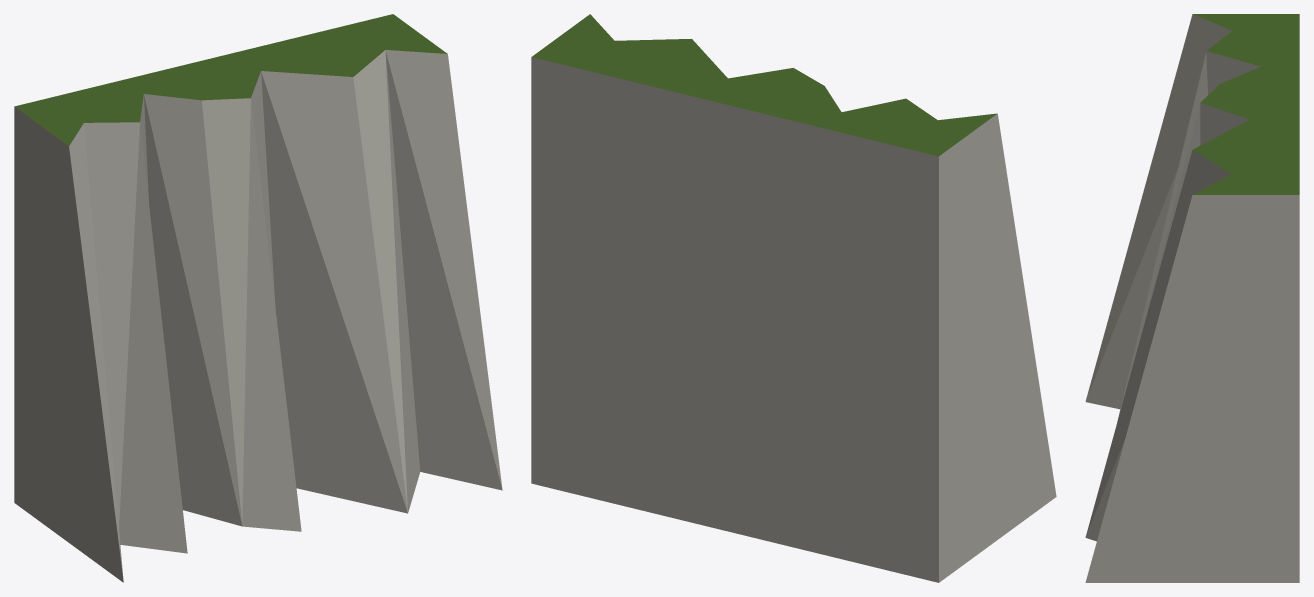
File: Terrain_Tile_Grass_Rock_Cliff_Face_Angled_01.fbx
3 renders of one model, left to right at view 1: azimuth 30°, elevation 25°; view 2: azimuth 150°, elevation 25°; view 3: azimuth 270°, elevation 25°, orthographic. The views are drawn at different scales.
Parts seen in each view (by area): view 1: Terrain_Tile_Grass_Rock_Cliff_Face_Angled_01; view 2: Terrain_Tile_Grass_Rock_Cliff_Face_Angled_01; view 3: Terrain_Tile_Grass_Rock_Cliff_Face_Angled_01.
Boxes of the visible parts, left/top/right/bottom form: Terrain_Tile_Grass_Rock_Cliff_Face_Angled_01: left=14, top=14, right=502, bottom=582; Terrain_Tile_Grass_Rock_Cliff_Face_Angled_01: left=531, top=14, right=1056, bottom=582; Terrain_Tile_Grass_Rock_Cliff_Face_Angled_01: left=1085, top=14, right=1299, bottom=582.
Bounding box in the file's own units: 126 × 126 × 62.99.
